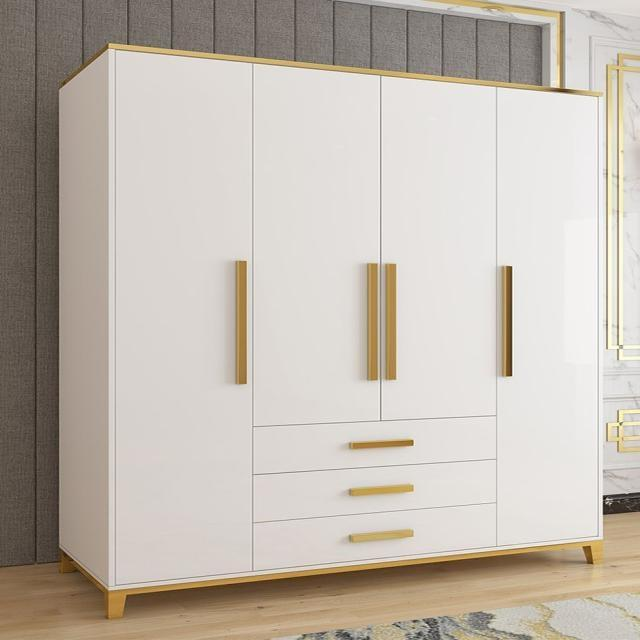door: (257, 66, 501, 422), (113, 46, 254, 579), (501, 85, 602, 544)
obstacle: (255, 431, 500, 553)
